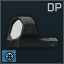Leupold DeltaPoint Reflex Sight: (0, 0, 64, 64)
